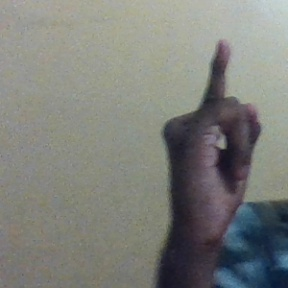I: (161, 41, 262, 237)
